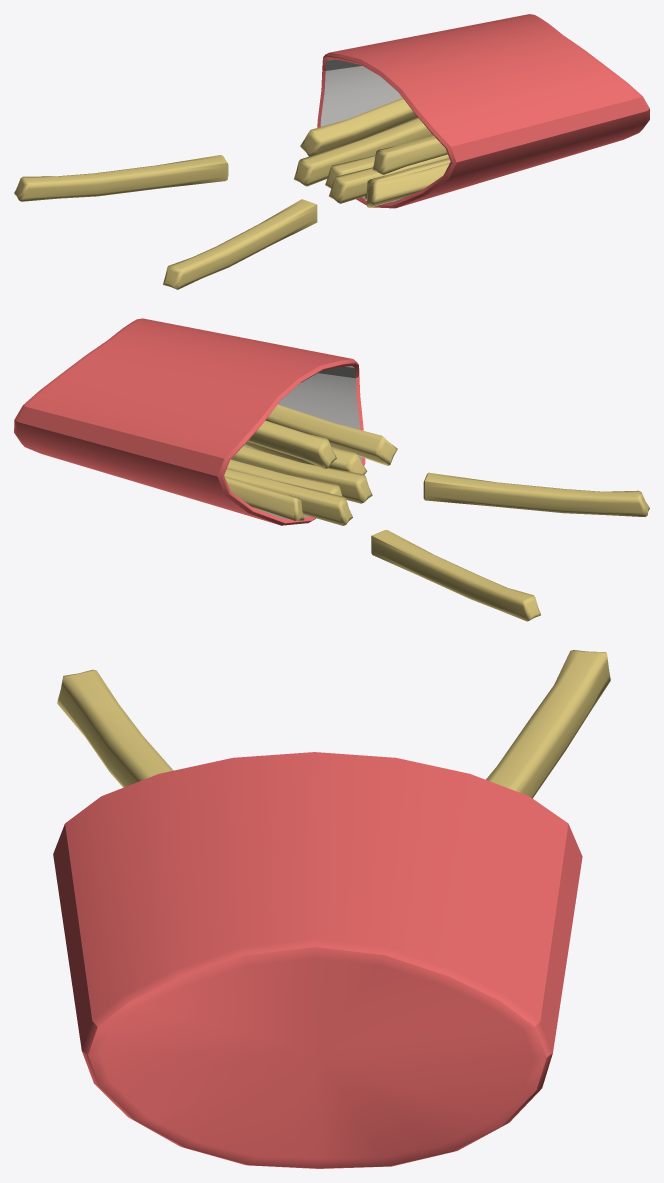
The model's file is fries.fbx.
The picture shows the model from 3 angles, top to bottom: view 1: azimuth 30°, elevation 25°; view 2: azimuth 150°, elevation 25°; view 3: azimuth 270°, elevation 25°; orthographic projection. The views are drawn at different scales.
Parts seen in each view (by area): view 1: pCylinder2, pCube8, pCube9; view 2: pCylinder2, pCube9, pCube8; view 3: pCylinder2, pCube8, pCube9.
Boxes of the visible parts, x1,y1,x2,y2 form: pCylinder2: (293, 14, 649, 208); pCube8: (14, 155, 228, 201); pCube9: (163, 199, 317, 289); pCylinder2: (14, 318, 397, 525); pCube9: (423, 472, 649, 516); pCube8: (371, 530, 540, 621); pCylinder2: (53, 752, 582, 1168); pCube8: (486, 650, 610, 798); pCube9: (57, 669, 173, 787).
Size of the model in its own units: 0.5063 by 0.1107 by 0.2378.
